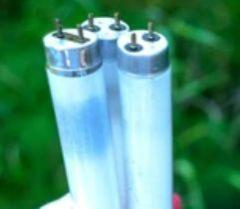lightbulb: (40, 11, 176, 208), (115, 21, 173, 208)
